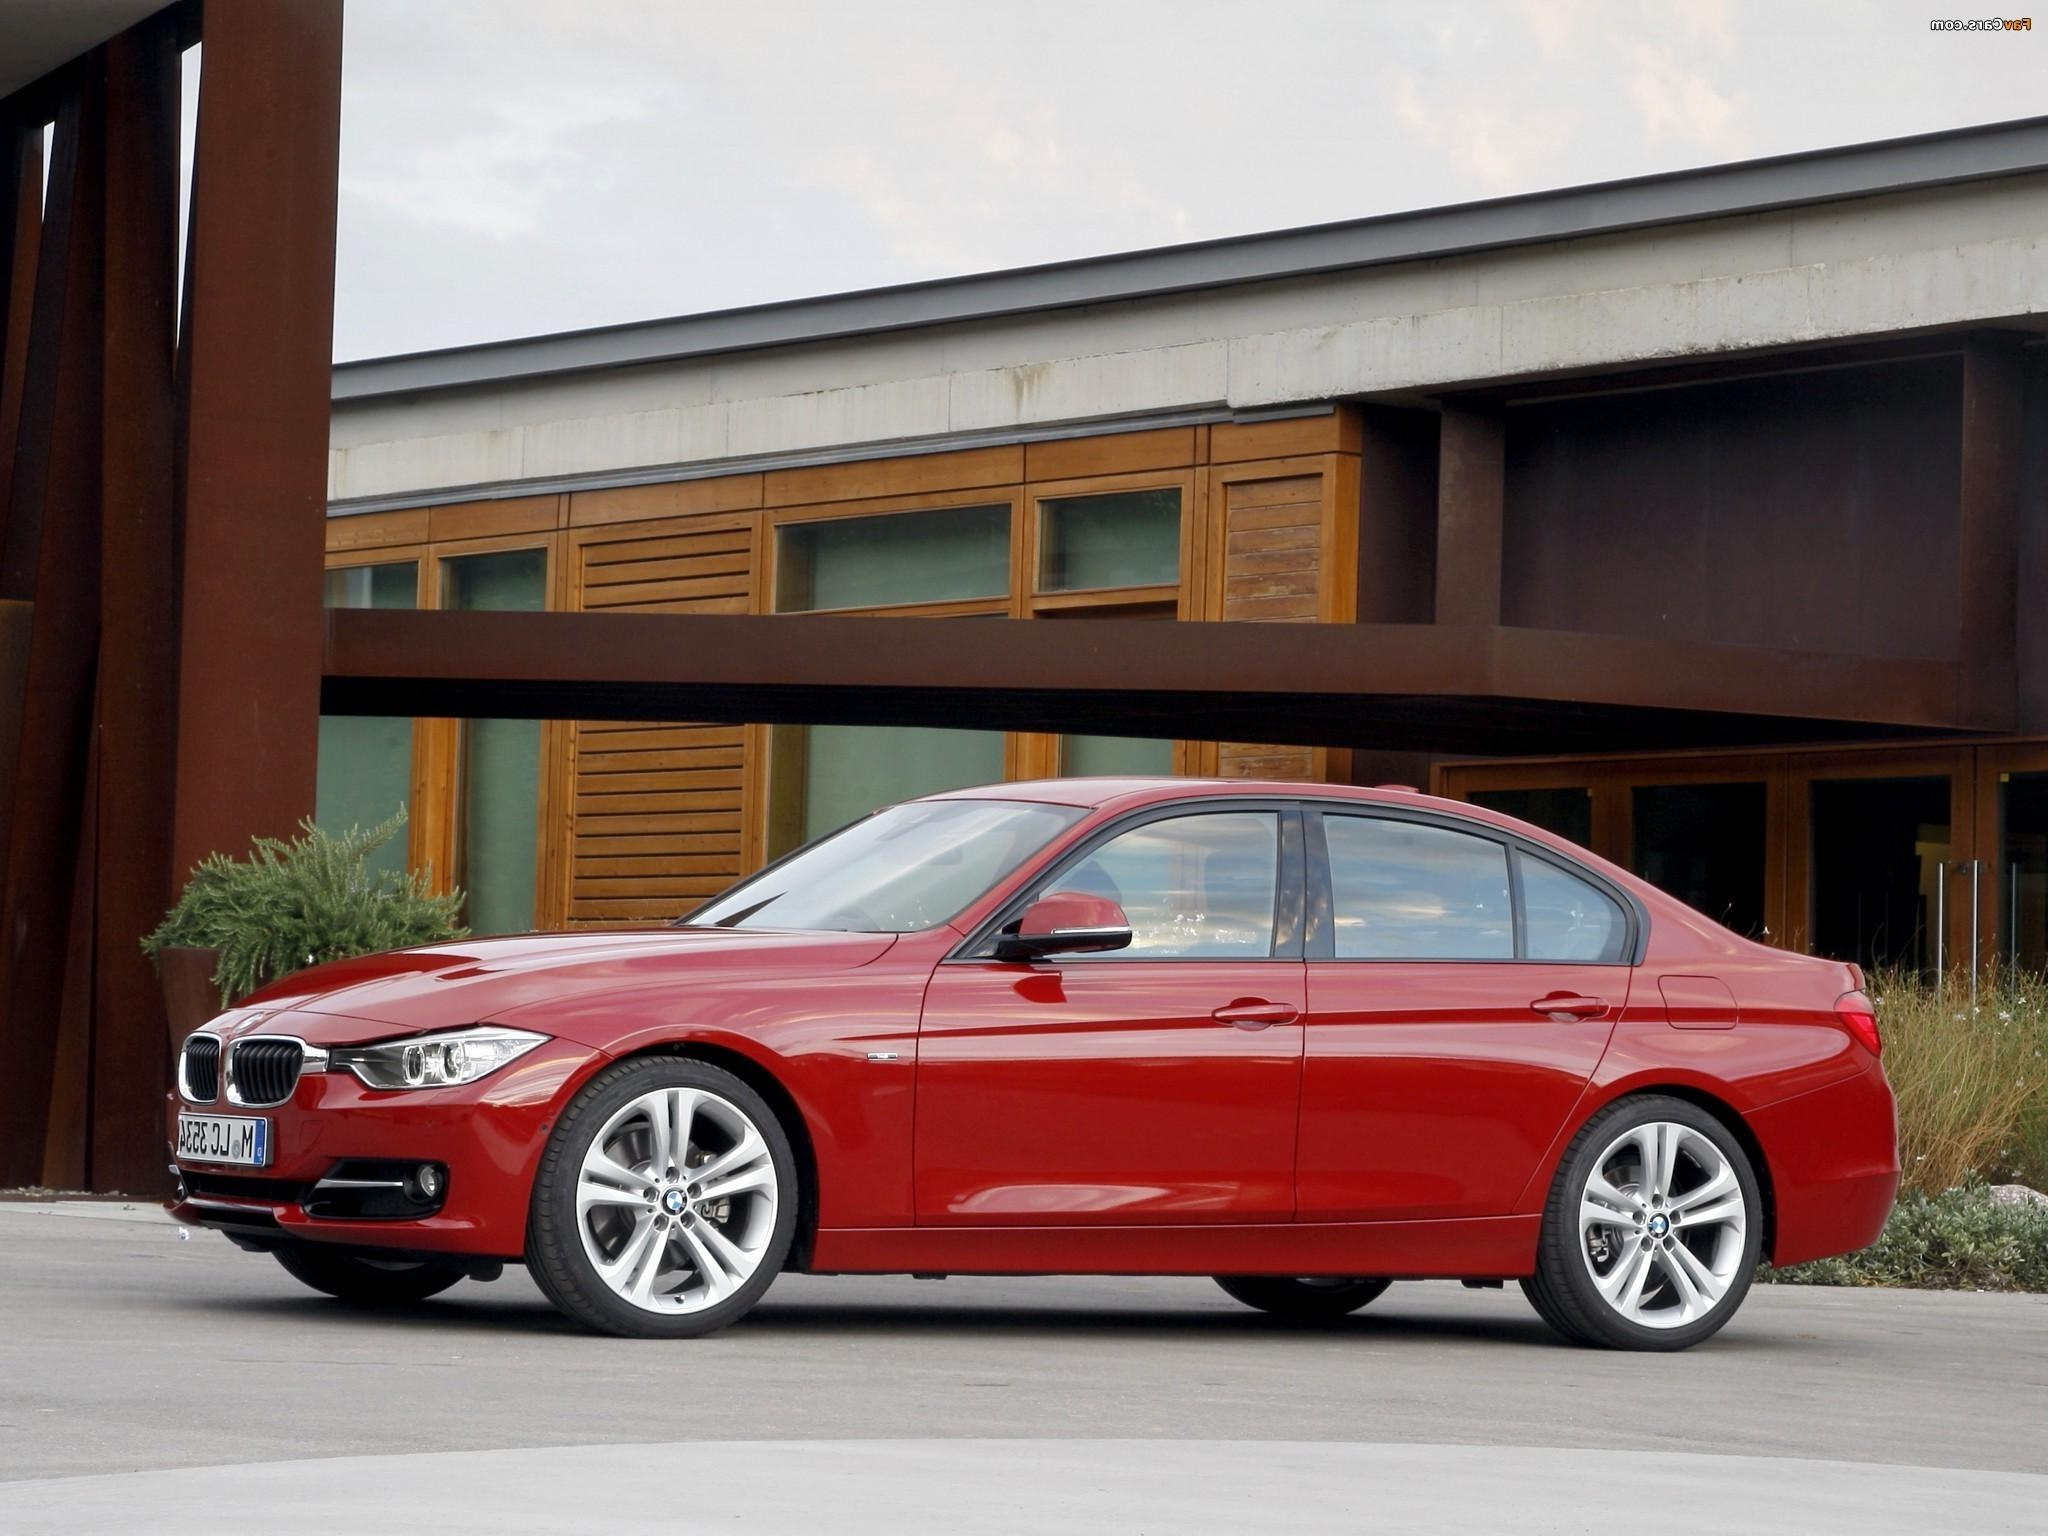car: (23, 736, 2016, 1409)
